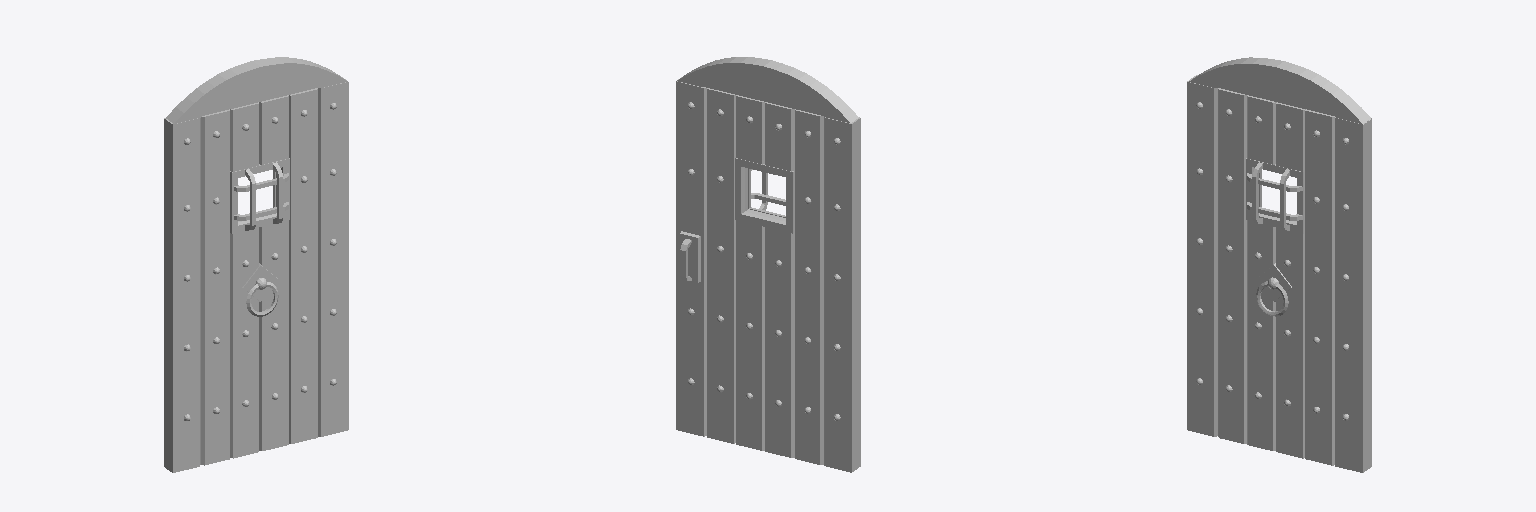
File: Door_2_Round.obj
The picture shows the model from 3 angles: view 1: azimuth 30°, elevation 25°; view 2: azimuth 150°, elevation 25°; view 3: azimuth 330°, elevation 25°; orthographic projection.
Visible parts, largest first — view 1: Door_2_Round; view 2: Door_2_Round; view 3: Door_2_Round.
Boxes of the visible parts, <box> form: Door_2_Round: <box>164,57,348,472</box>; Door_2_Round: <box>676,57,860,472</box>; Door_2_Round: <box>1187,57,1371,472</box>.
Size of the model in its own units: 1.12 by 2.33 by 0.2609.